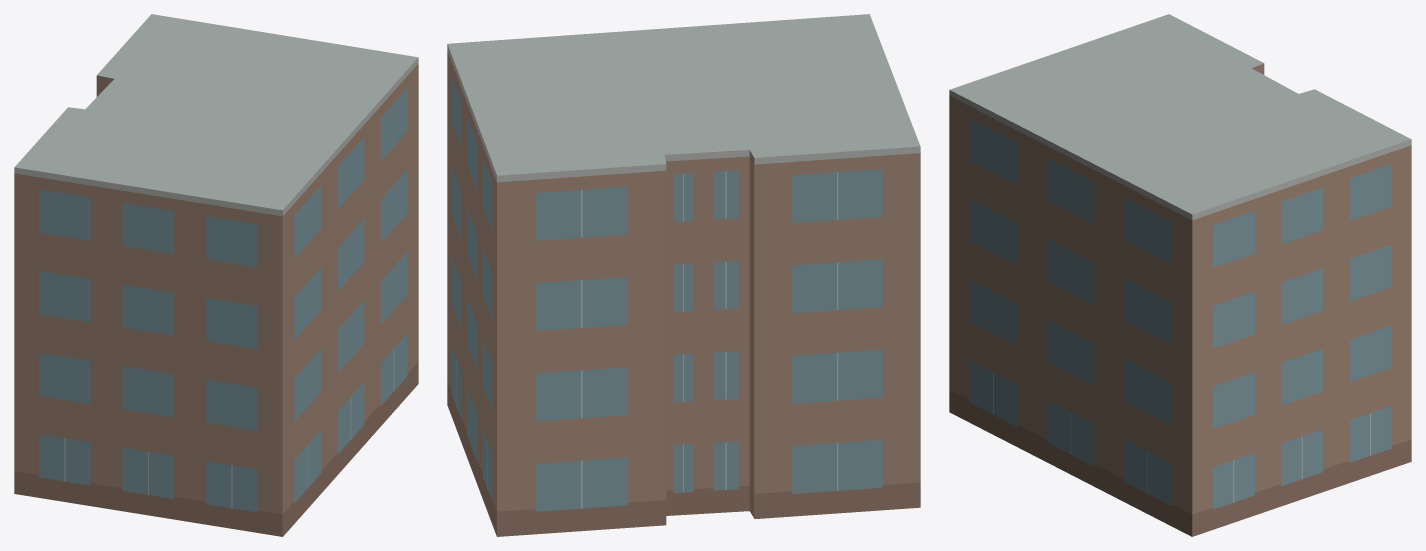
Rendered from survey-upis-32744301.glb.
3 views of the same model, side by side, from view 1: azimuth 30°, elevation 25°; view 2: azimuth 150°, elevation 25°; view 3: azimuth 270°, elevation 25° (orthographic). The views are drawn at different scales.
Parts seen in each view (by area): view 1: survey-upis-32744301.tmp; view 2: survey-upis-32744301.tmp; view 3: survey-upis-32744301.tmp.
Boxes of the visible parts, x1,y1,x2,y2 form: survey-upis-32744301.tmp: [14, 14, 418, 536]; survey-upis-32744301.tmp: [447, 14, 920, 536]; survey-upis-32744301.tmp: [949, 14, 1411, 536].
Size of the model in its own units: 17.81 by 13.35 by 17.36.
